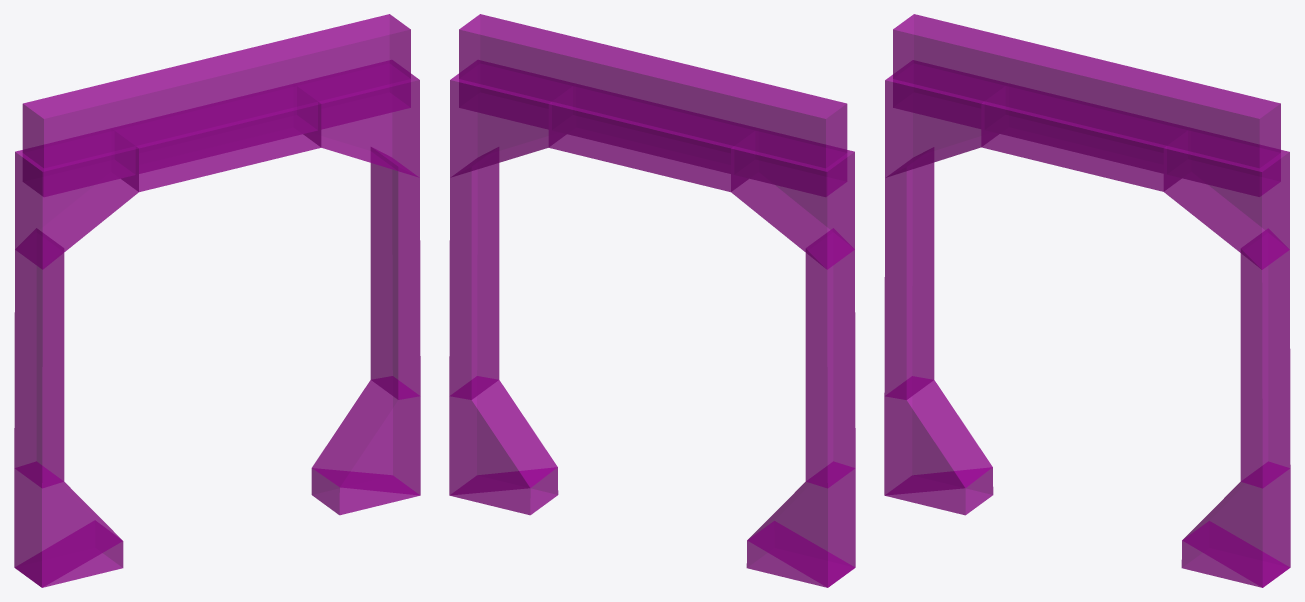
The model's file is SM_Bld_Wall_Door_Double_01_Collision.fbx.
The picture shows the model from 3 angles, left to right: view 1: azimuth 30°, elevation 25°; view 2: azimuth 150°, elevation 25°; view 3: azimuth 330°, elevation 25°; orthographic projection.
Parts seen in each view (by area): view 1: SM_Bld_Wall_Door_Double_01_Collision; view 2: SM_Bld_Wall_Door_Double_01_Collision; view 3: SM_Bld_Wall_Door_Double_01_Collision.
Part boxes in pixels (bbox=[...]): SM_Bld_Wall_Door_Double_01_Collision: bbox=[14, 14, 420, 587]; SM_Bld_Wall_Door_Double_01_Collision: bbox=[449, 14, 855, 587]; SM_Bld_Wall_Door_Double_01_Collision: bbox=[884, 14, 1290, 587].
Size of the model in its own units: 260 by 305 by 33.02.
